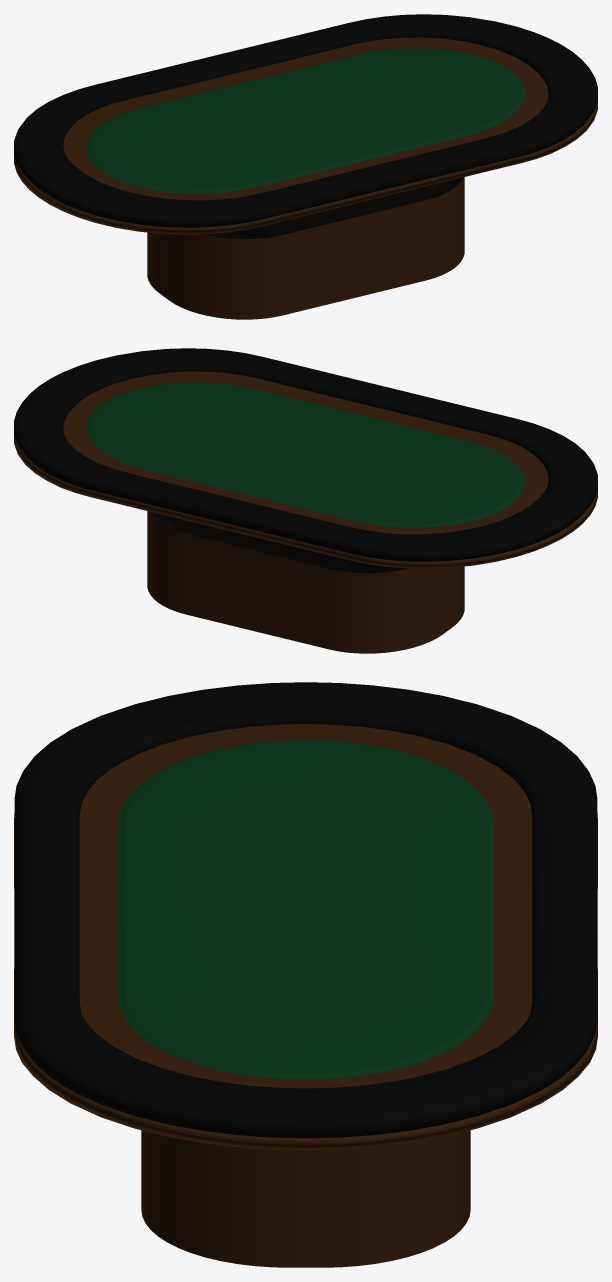
File: table_basic.fbx
3 renders of one model, top to bottom at view 1: azimuth 30°, elevation 25°; view 2: azimuth 150°, elevation 25°; view 3: azimuth 270°, elevation 25°, orthographic. The views are drawn at different scales.
Visible parts, largest first — view 1: pokertable_low; view 2: pokertable_low; view 3: pokertable_low.
Part boxes in pixels (bbox=[...]): pokertable_low: bbox=[14, 14, 597, 319]; pokertable_low: bbox=[14, 348, 597, 653]; pokertable_low: bbox=[14, 682, 597, 1267].
Size of the model in its own units: 122 by 32.42 by 67.84.
